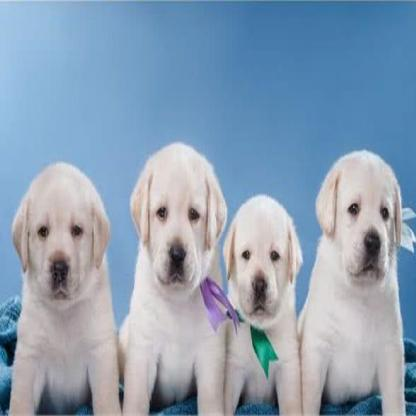Labarador Retriever: (115, 143, 226, 416), (298, 147, 405, 416), (10, 161, 119, 416), (222, 196, 303, 416)
